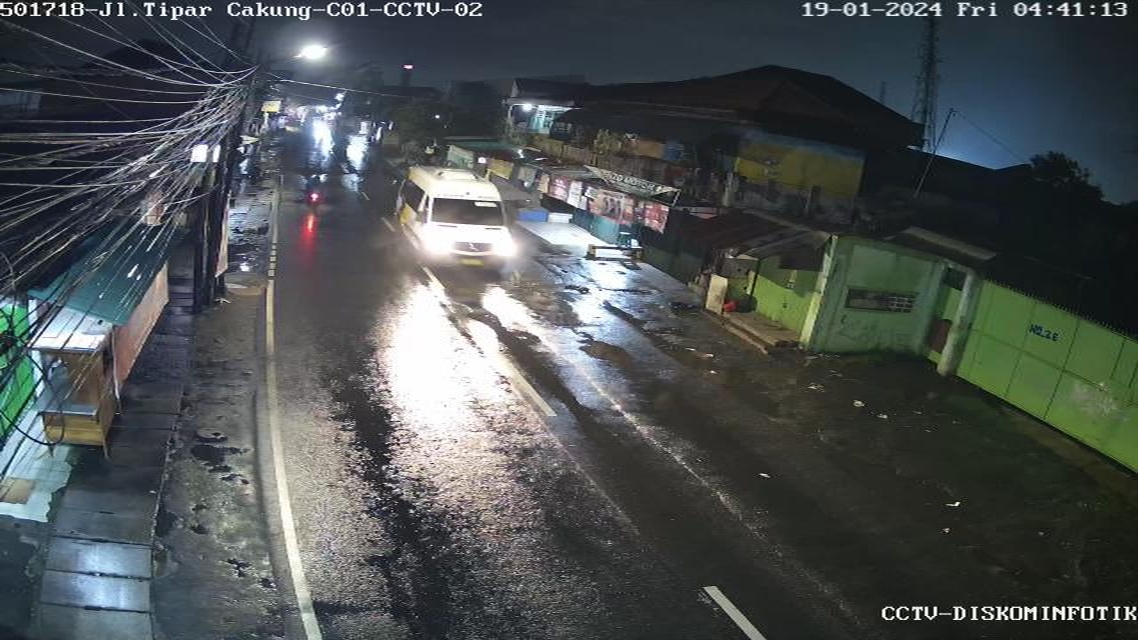Gerobak: (21, 283, 139, 457)
